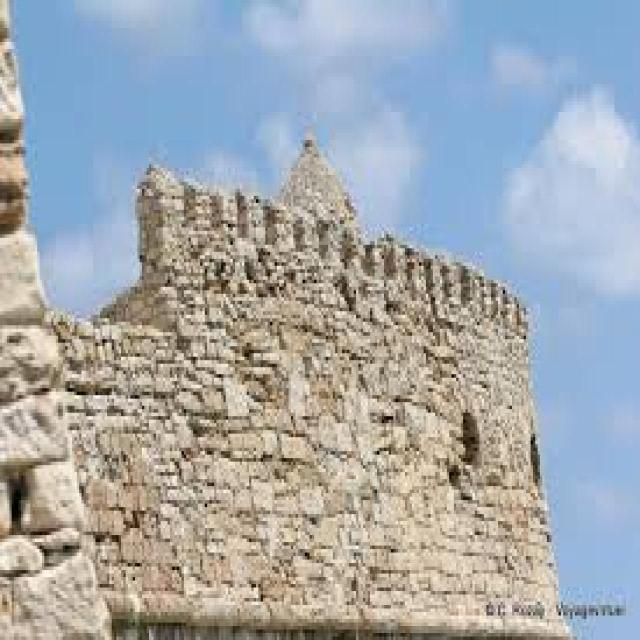Kules: (1, 161, 573, 640)
